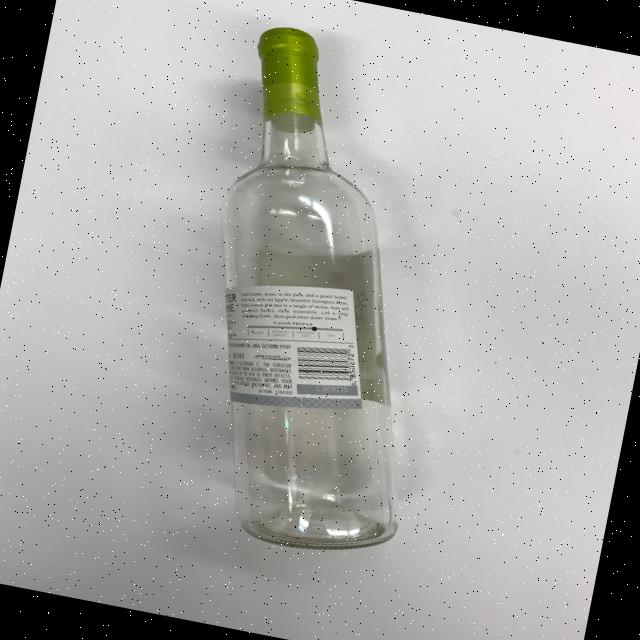glass: (159, 21, 489, 567)
